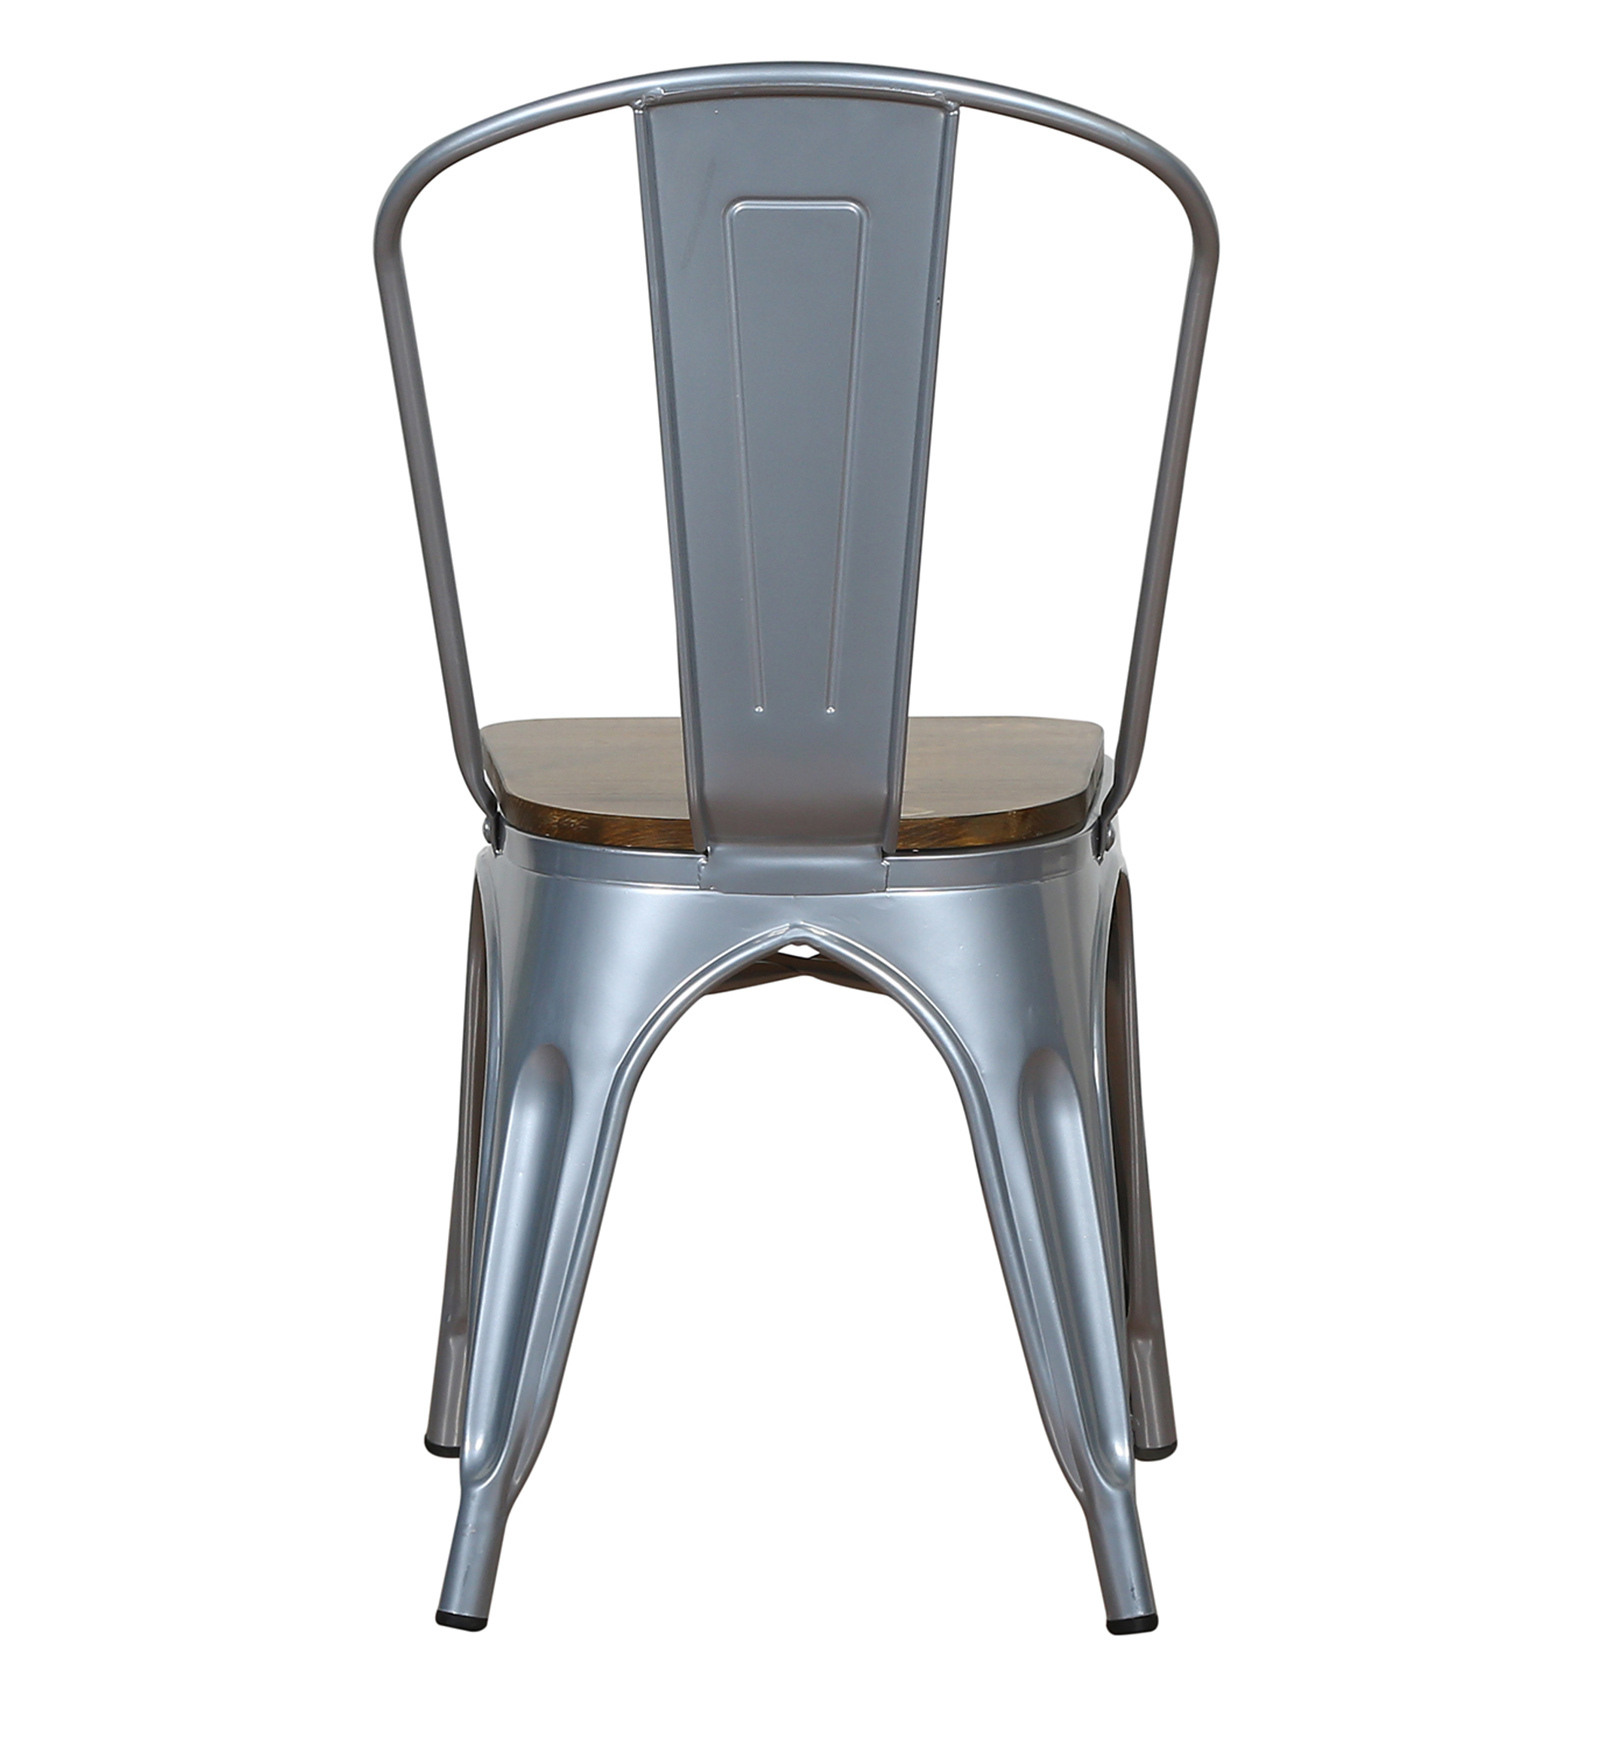Loy Metal Chair (Set of 2) in Silver Colour with Wooden Seat by Bohemiana: (362, 55, 1237, 1634)
